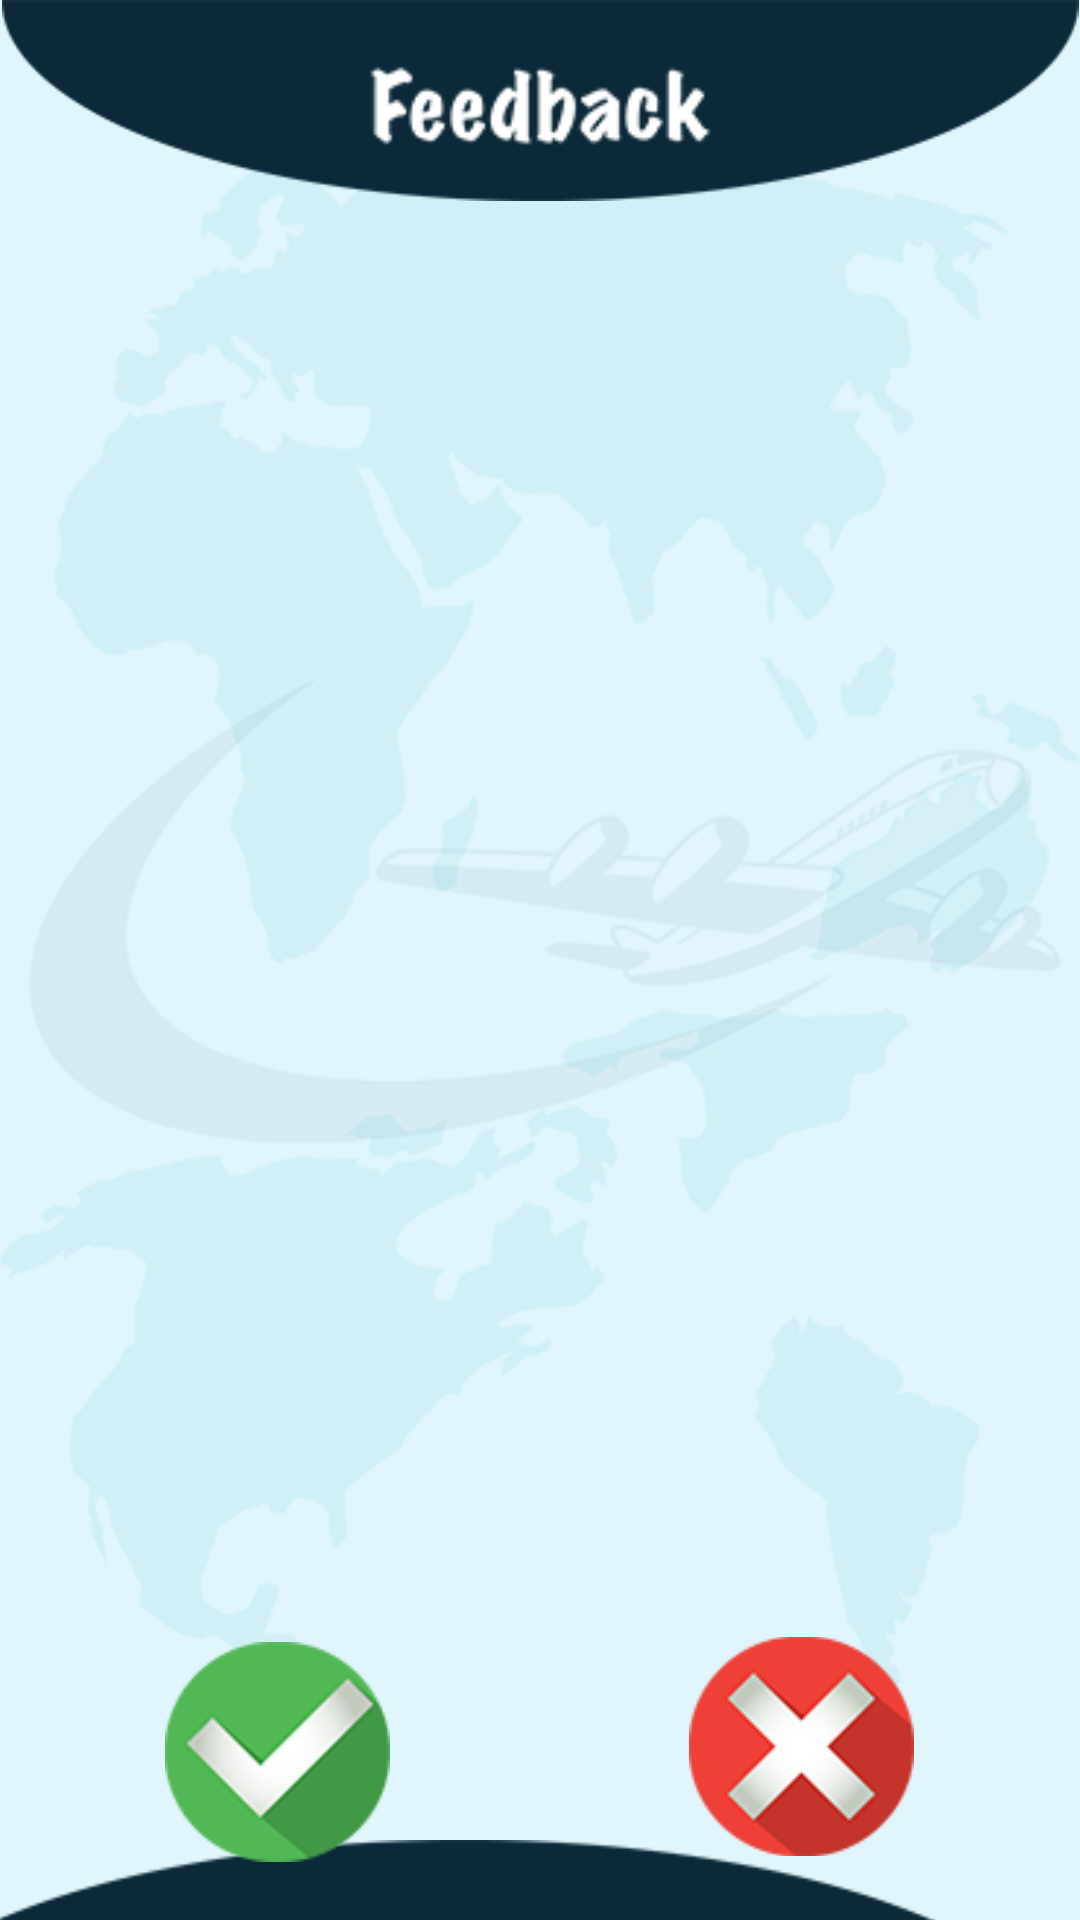

Icon click points for this 1080px x 1920px phone screenshot, format [x,y]:
accept: [277,1757]
cancel: [801,1746]
